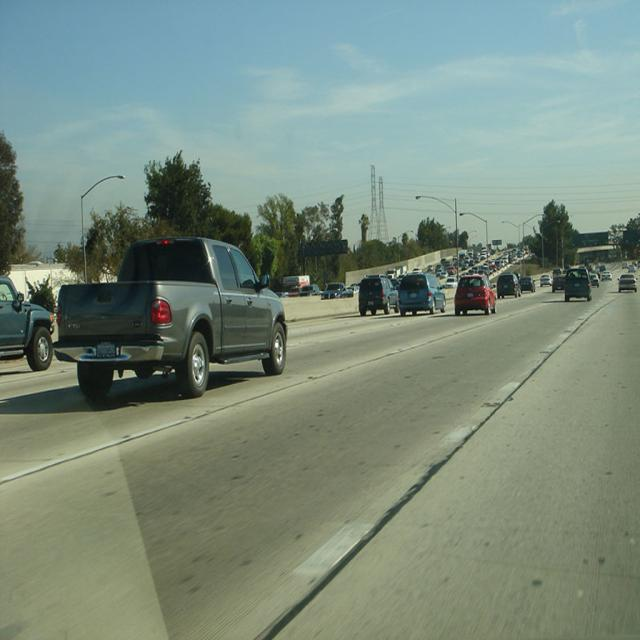car: (53, 229, 286, 394), (0, 267, 52, 377)
